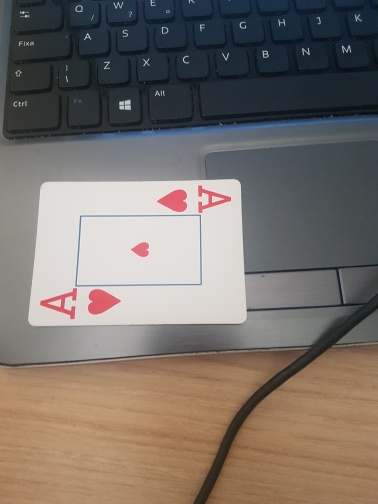ace: (27, 181, 247, 323)
